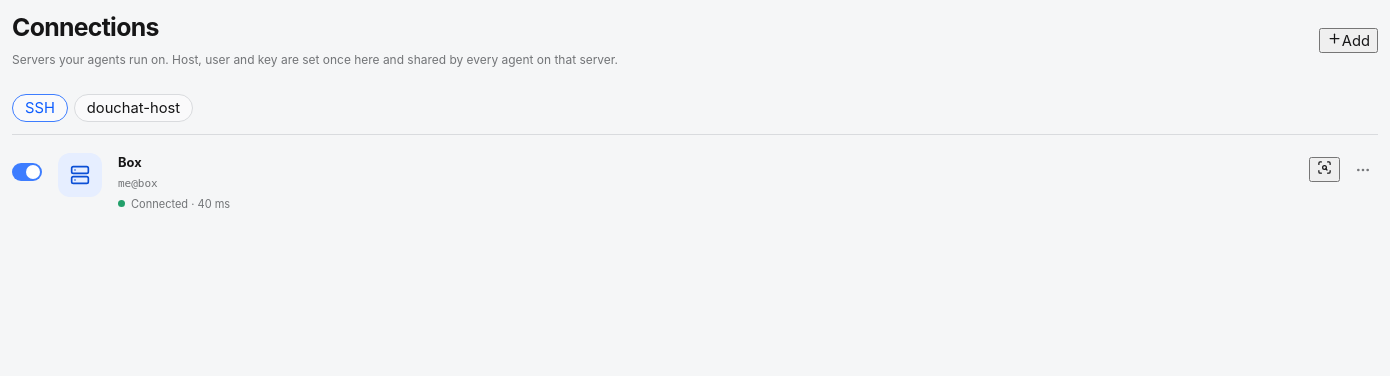
reports each test step with its reason
Click the button named "More Box" at (1363, 170), box [1348,155,1378,185]
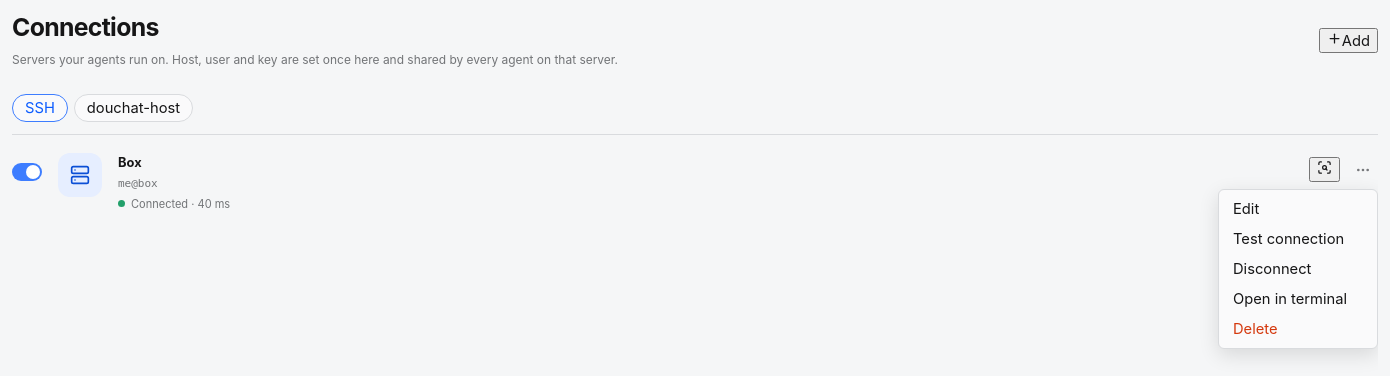
Click the menu item "Test connection" at (1298, 239), box [1223,224,1373,254]
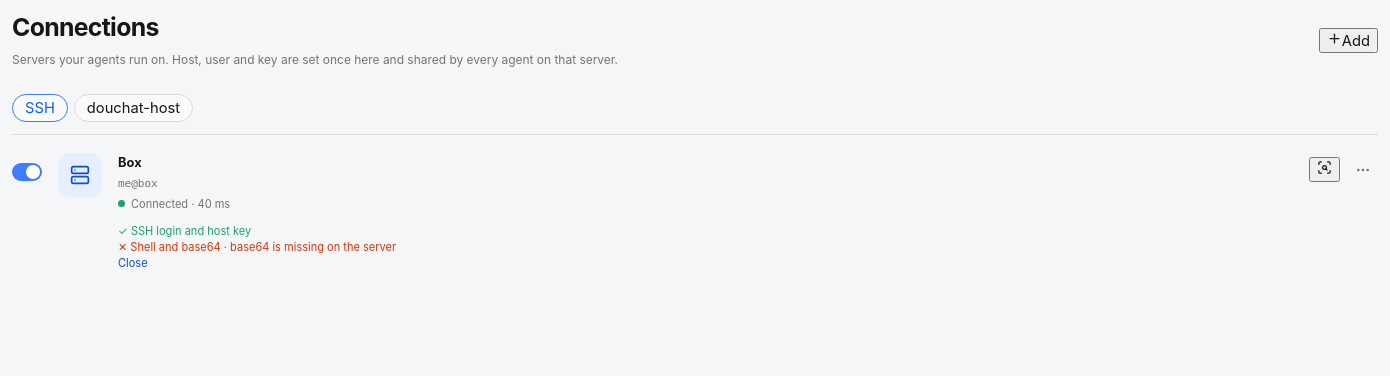
Now the text with class "connection-step-ok" shows "SSH login and host key", box [131,224,251,238]
Now the text with class "connection-step-failed" shows "base64 is missing on the server", box [221,240,396,254]
